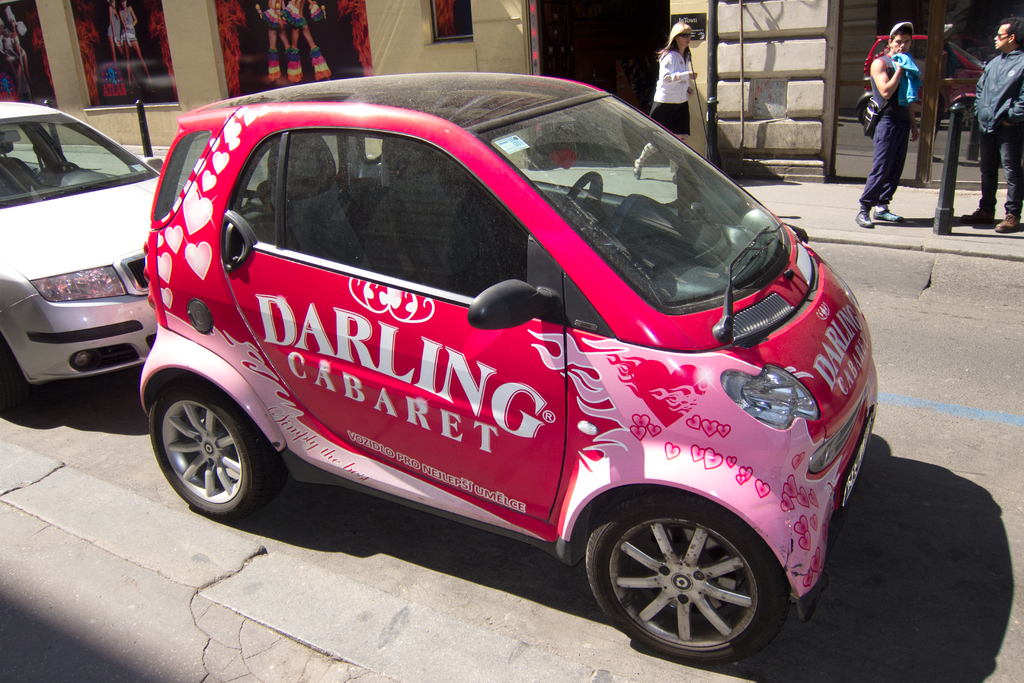mobil: (133, 74, 900, 644)
